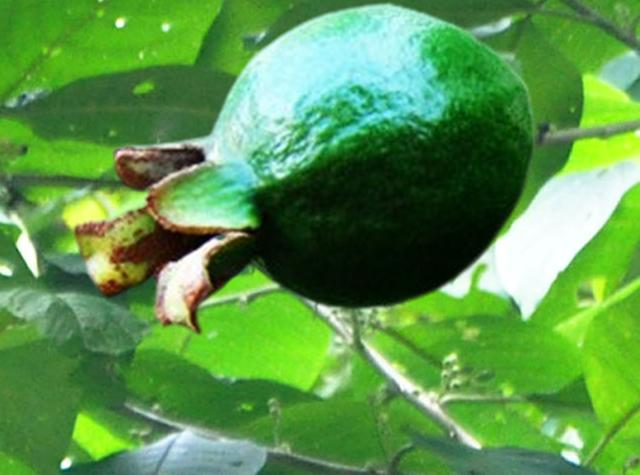guava: (72, 0, 537, 335)
